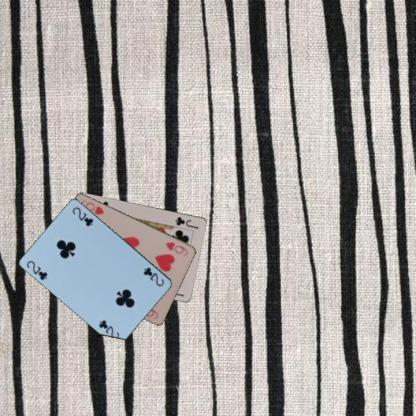2c: (141, 264, 165, 288), (24, 258, 49, 281)
6h: (164, 239, 190, 258)
Jc: (173, 214, 200, 230)
